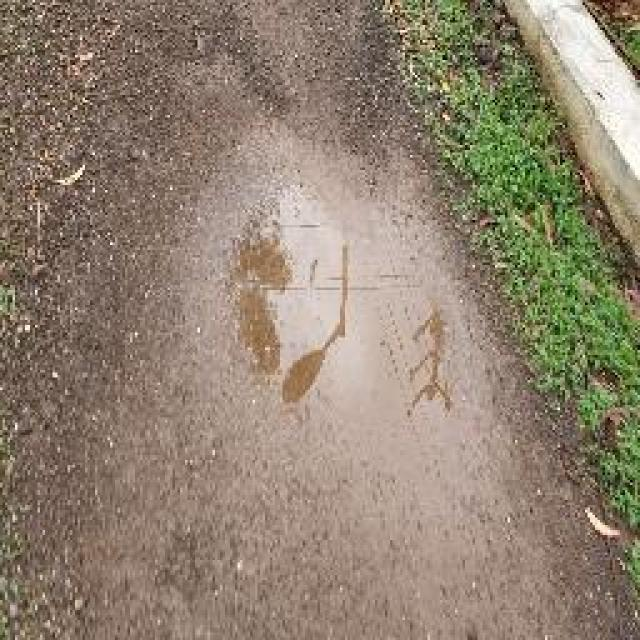stagnation: (212, 155, 366, 426)
